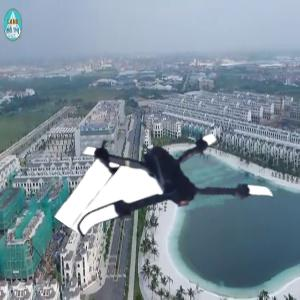drone: (80, 93, 269, 282)
